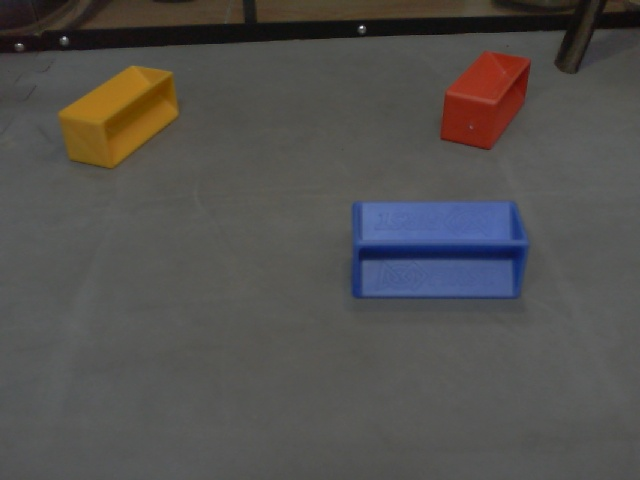BlueSample: (348, 196, 529, 304)
RedSample: (435, 48, 533, 152)
YellowSample: (54, 65, 183, 171)
